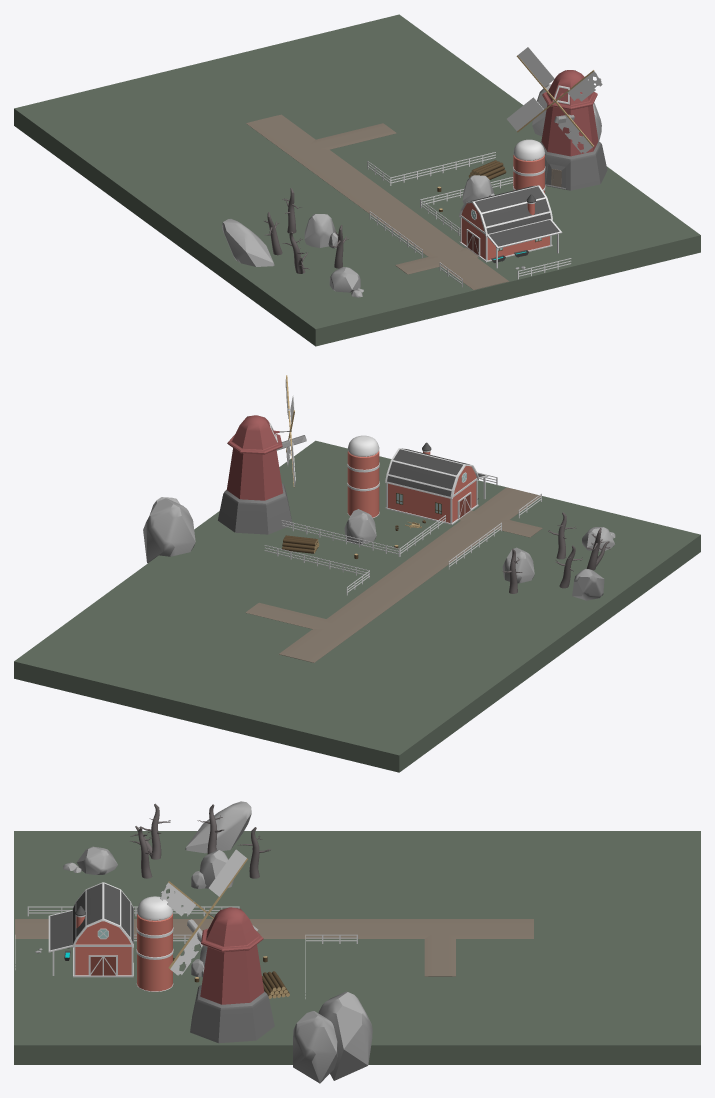
Rendered from environment.fbx.
The picture shows the model from 3 angles, top to bottom: view 1: azimuth 30°, elevation 25°; view 2: azimuth 150°, elevation 25°; view 3: azimuth 270°, elevation 25°; orthographic projection. The views are drawn at different scales.
Parts seen in each view (by area): view 1: polySurface2550; view 2: polySurface2550; view 3: polySurface2550.
Part boxes in pixels (x1,y1,x2,y2): polySurface2550: [14, 14, 700, 346]; polySurface2550: [14, 375, 700, 772]; polySurface2550: [14, 801, 700, 1083].
Bounding box in the file's own units: 106 × 38.83 × 133.
